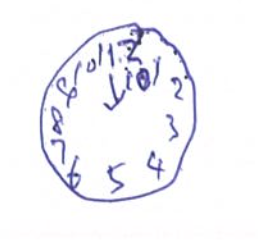1: (151, 54, 162, 87)
10: (124, 68, 151, 92), (73, 58, 97, 84)
11: (95, 42, 115, 67)
2: (170, 76, 185, 101)
3: (163, 112, 179, 142)
4: (144, 150, 166, 181)
5: (106, 162, 129, 194)
6: (67, 155, 82, 191)
7: (49, 137, 67, 166)
8: (50, 105, 65, 135)
contour: (37, 21, 198, 204)
